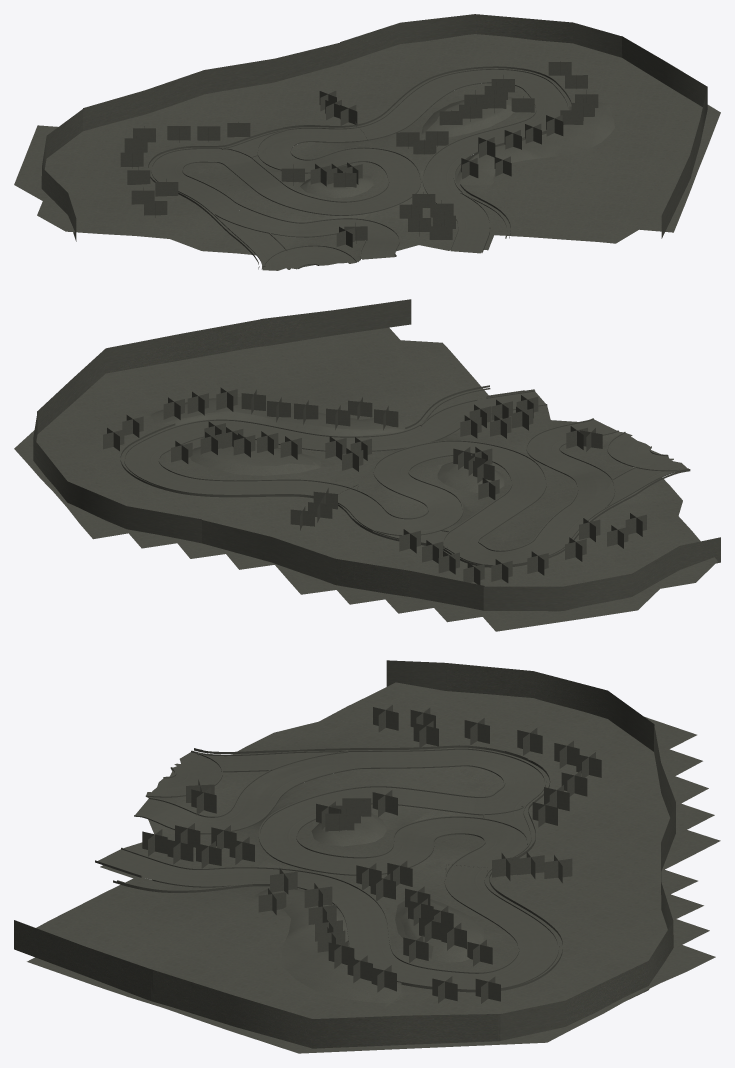
The model's file is drift2.glb.
The picture shows the model from 3 angles, top to bottom: view 1: azimuth 30°, elevation 25°; view 2: azimuth 150°, elevation 25°; view 3: azimuth 270°, elevation 25°; orthographic projection. The views are drawn at different scales.
Parts seen in each view (by area): view 1: drift2; view 2: drift2; view 3: drift2.
Part boxes in pixels (<box>): drift2: <box>14,14,720,270</box>; drift2: <box>14,299,720,631</box>; drift2: <box>14,660,720,1053</box>.
Size of the model in its own units: 460 by 22 by 364.
1 material, 1 textured.
